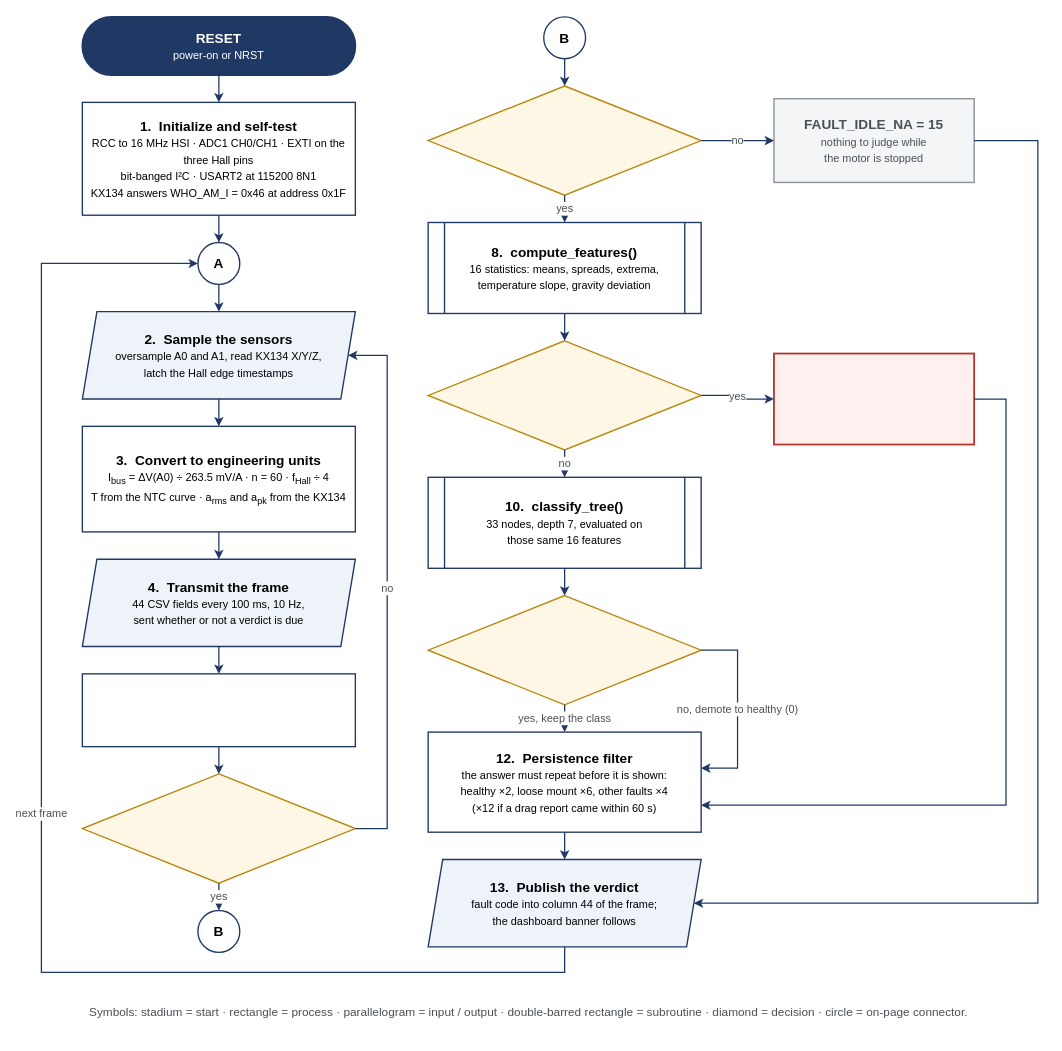
The diagram is 1062 pixels wide and 1051 high, and some of its shapes have lost their labels. The shapes that lost their labels are listed below. From the top down, each one's centre as x and y in pixels, then its label:
point (564, 140): 7. n ≥ 150 RPM and t run ≥ 10 s? is the motor really turning?
point (564, 395): 9. any measured limit crossed? fixed thresholds, first match wins
point (874, 398): RULE VERDICT 2 rotor drag · 3 overheat 4 motor position · 1 loose mount
point (564, 650): 11. does the matching channel agree? the class must be backed by its own sensor
point (218, 710): 5. Append to the 1 s window ring of the last 10 frames
point (218, 828): 6. 5th frame since the last check? classify twice a second
